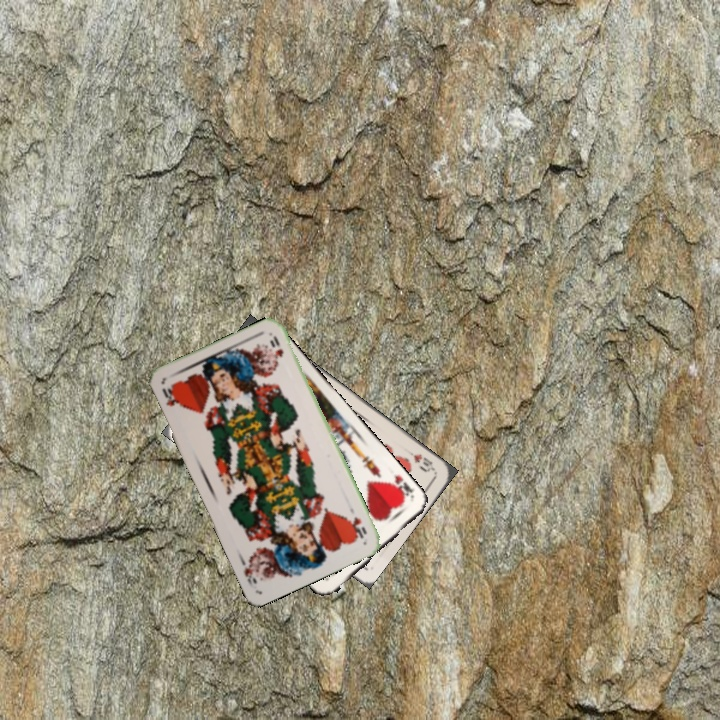H10: (409, 450, 438, 475)
HK: (385, 471, 417, 504)
HO: (346, 503, 369, 541), (158, 381, 183, 410)
